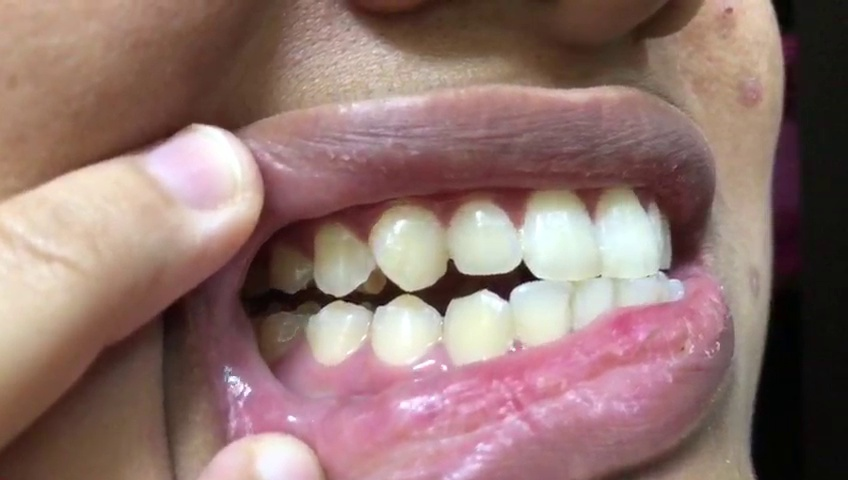1st Molar: (257, 308, 305, 366)
1st Premolar: (369, 293, 444, 369), (312, 220, 376, 296)
2nd Premolar: (306, 297, 371, 367), (270, 242, 314, 293)
Canine: (368, 202, 446, 291), (444, 288, 512, 364)
Central Incisor: (521, 187, 601, 282), (595, 185, 664, 278)
Lateral Incisor: (446, 199, 522, 274), (511, 275, 574, 347)
